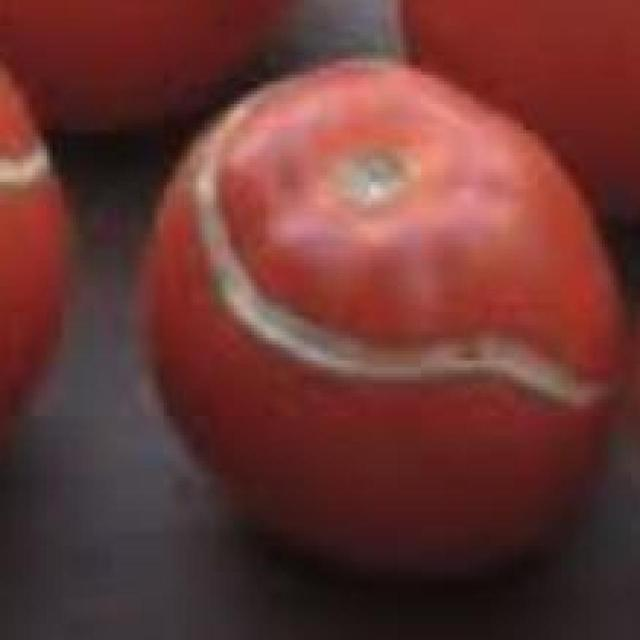Cracking Fruit: (18, 48, 307, 240)
